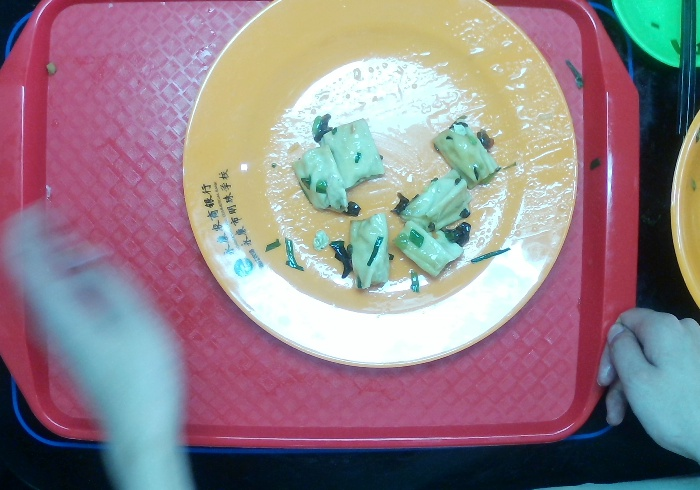YKMZ-Ju_Se_Mian_Pan: (180, 1, 587, 375)
